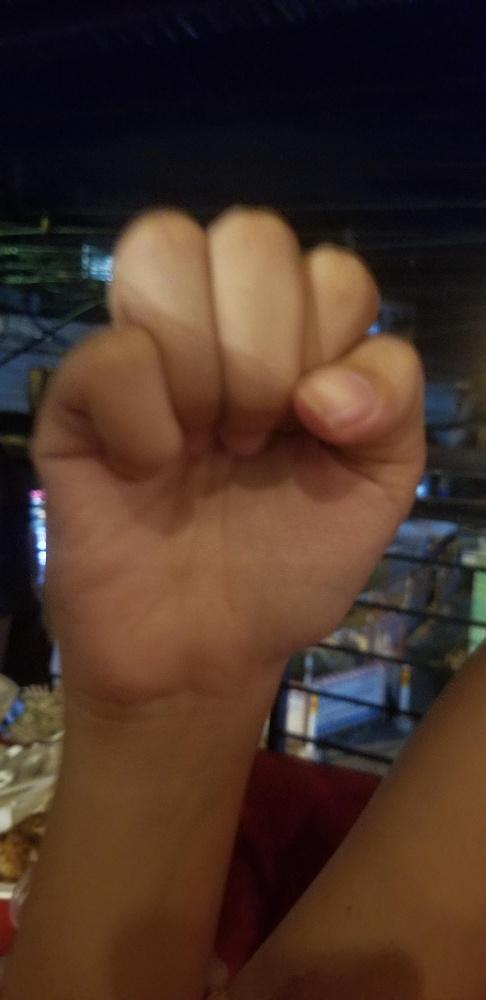s: (35, 170, 430, 673)
